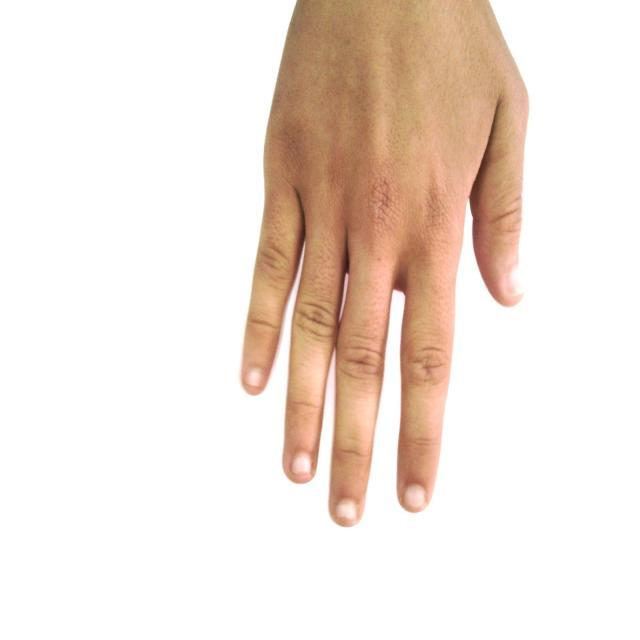Fingernail: (404, 485, 425, 511), (336, 500, 357, 523), (508, 265, 522, 295), (292, 453, 311, 475), (247, 369, 264, 387)
